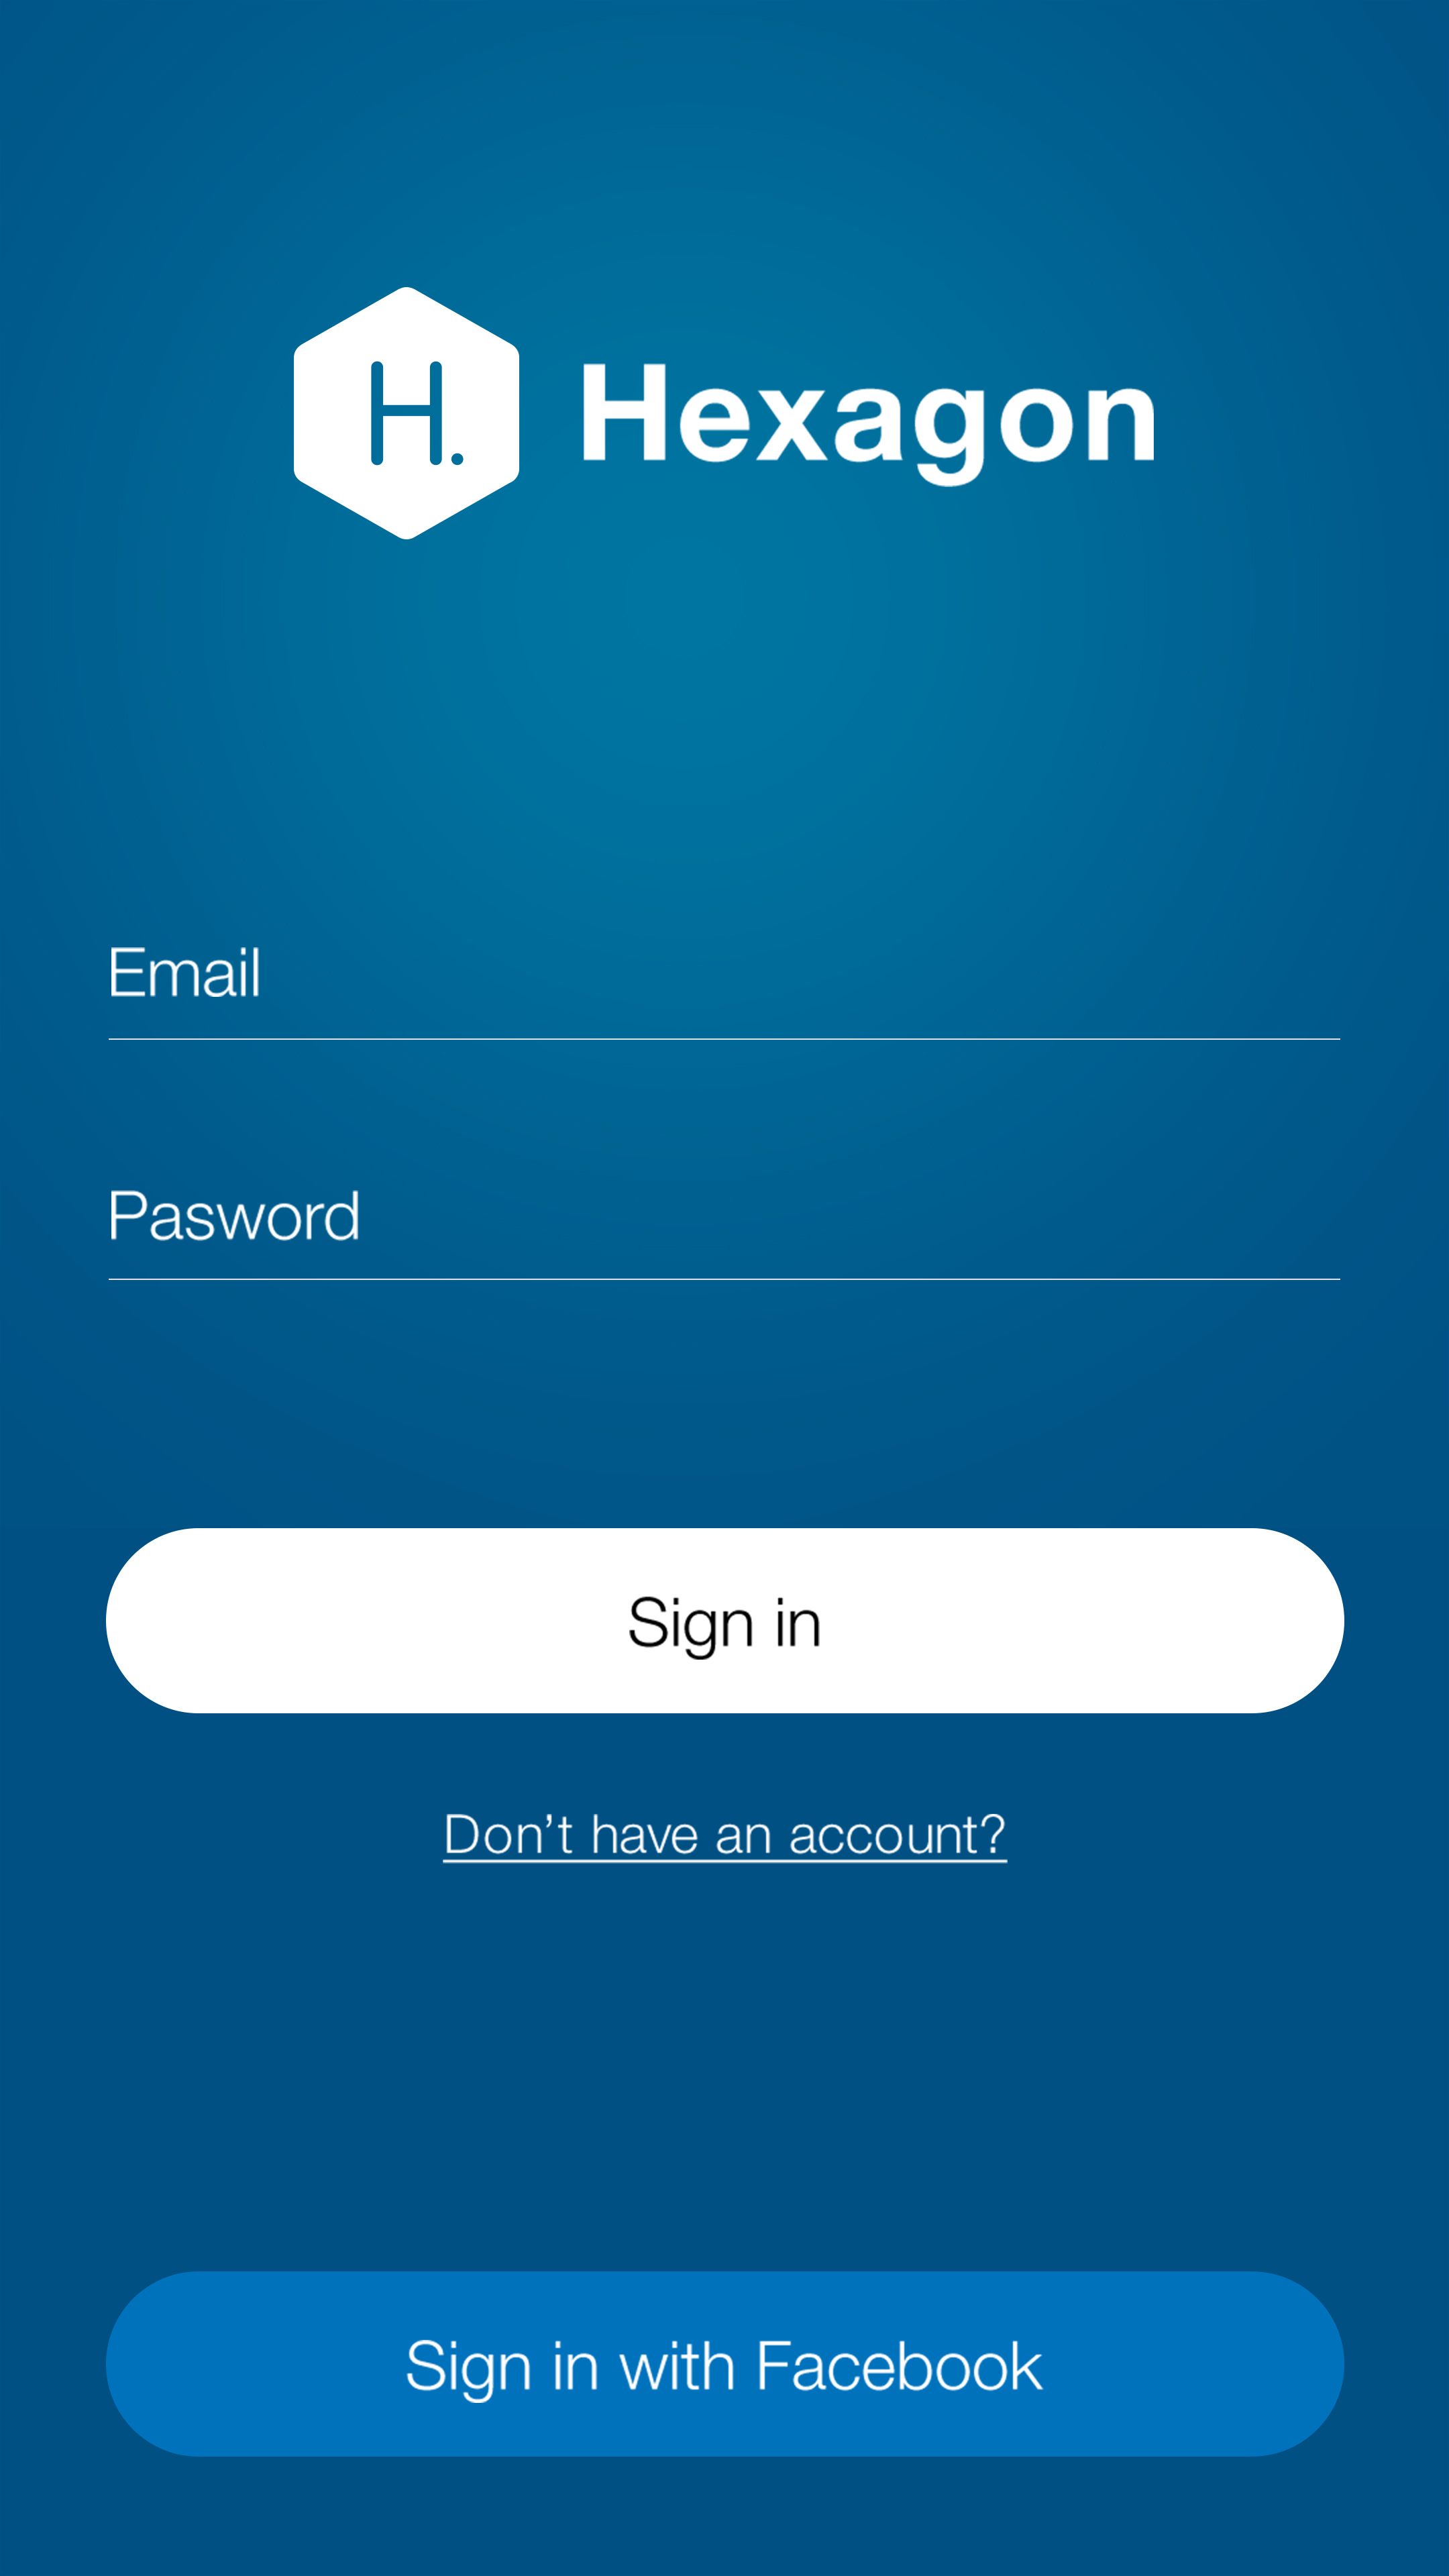EditText: (108, 947, 1341, 1040), (108, 1189, 1341, 1281)
Image: (294, 287, 520, 541)
Text: (582, 364, 1155, 488), (442, 1813, 1008, 1865), (111, 1189, 359, 1242), (111, 947, 260, 1000)
TextButton: (106, 2270, 1345, 2457), (106, 1529, 1345, 1714)
